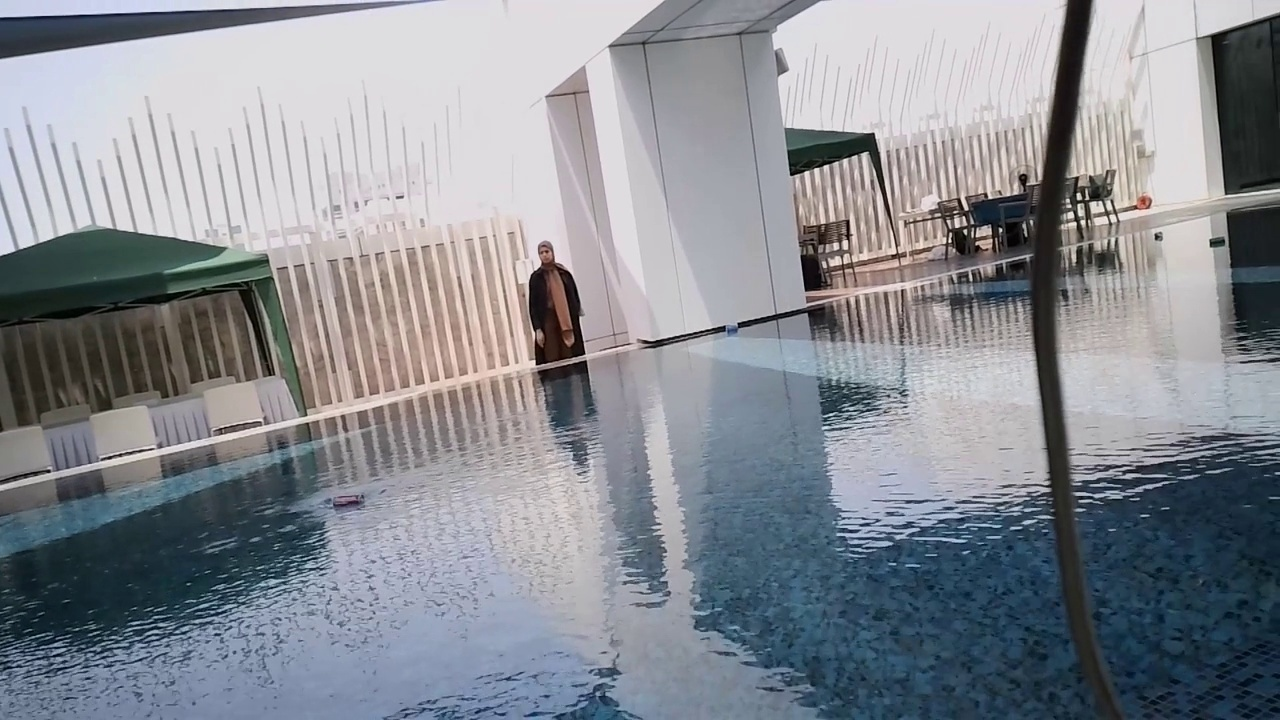debris: (327, 490, 368, 514), (722, 319, 742, 337), (1206, 235, 1228, 247), (1151, 230, 1165, 242)
